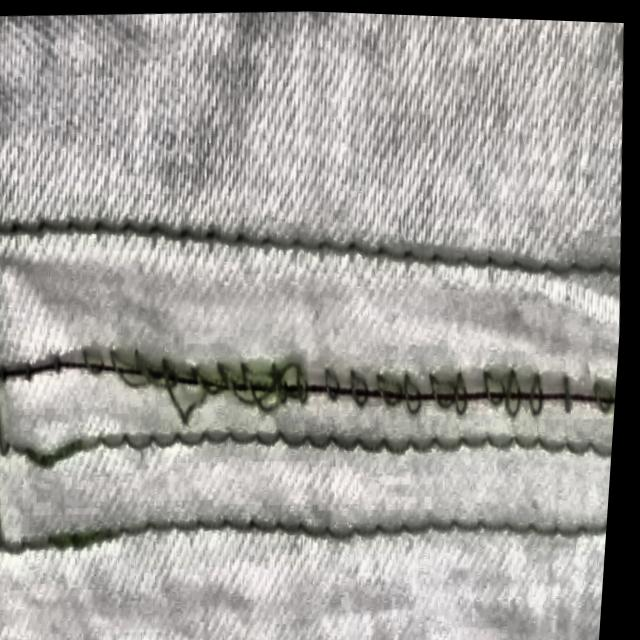Stitch: (326, 337, 611, 456), (63, 323, 330, 440)
